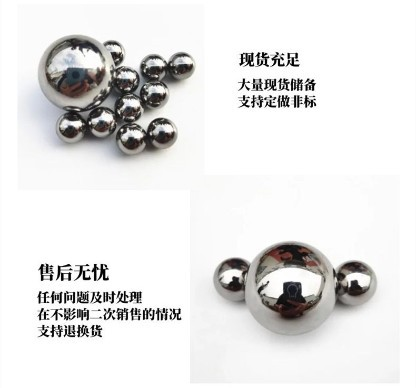ironball: (244, 240, 336, 335), (37, 33, 114, 112), (334, 259, 376, 305), (212, 256, 250, 301), (146, 116, 177, 149), (115, 122, 146, 154), (55, 111, 86, 143), (86, 105, 116, 137), (139, 80, 169, 109), (114, 92, 143, 122), (166, 51, 195, 80), (139, 53, 167, 80), (112, 65, 139, 93), (102, 39, 124, 65)
